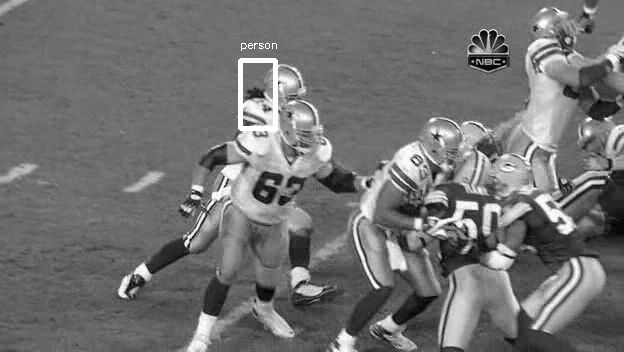person: (271, 66, 306, 110), (270, 66, 305, 110), (272, 66, 307, 110), (271, 65, 306, 109), (271, 67, 306, 111)
target_negative: (322, 21, 453, 133), (329, 266, 437, 352), (251, 312, 523, 344), (593, 34, 600, 325), (434, 80, 438, 231)
